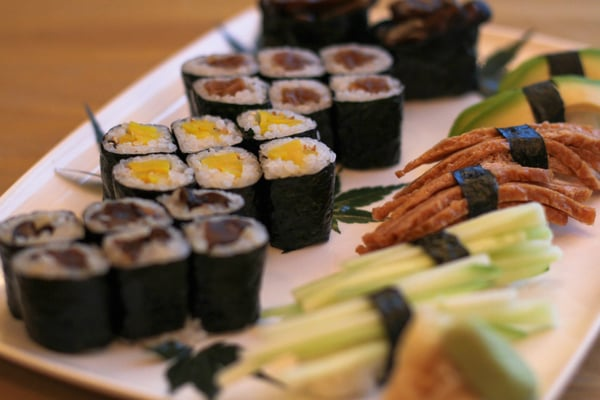pizza: (181, 213, 270, 332), (329, 72, 405, 169)
